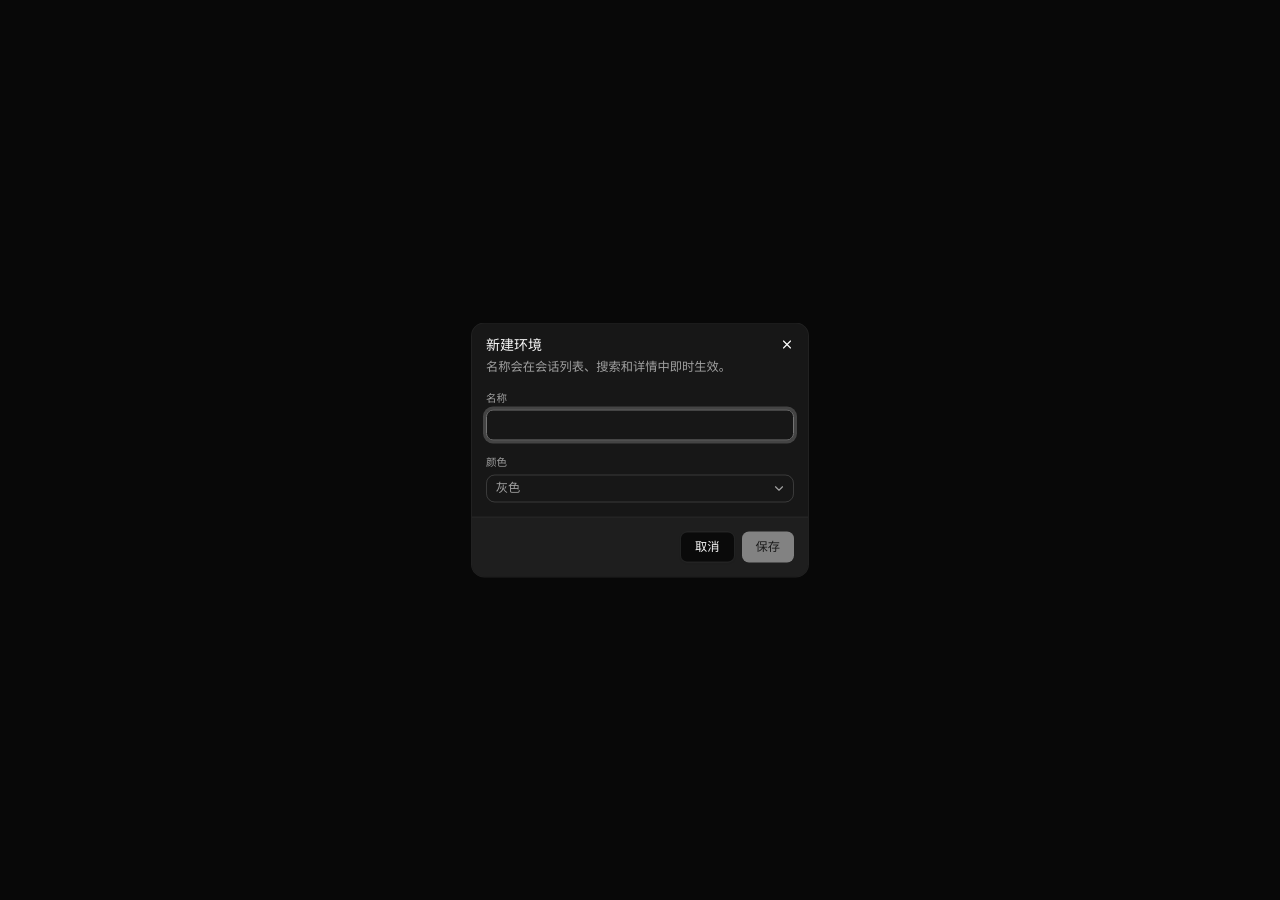
SessionAssetCatalogDialogs › shows catalog save failures inline without toast
The image size is (1280, 900).
Step 1. Type "生产" into the field → (640, 425), box [486,409,794,441]
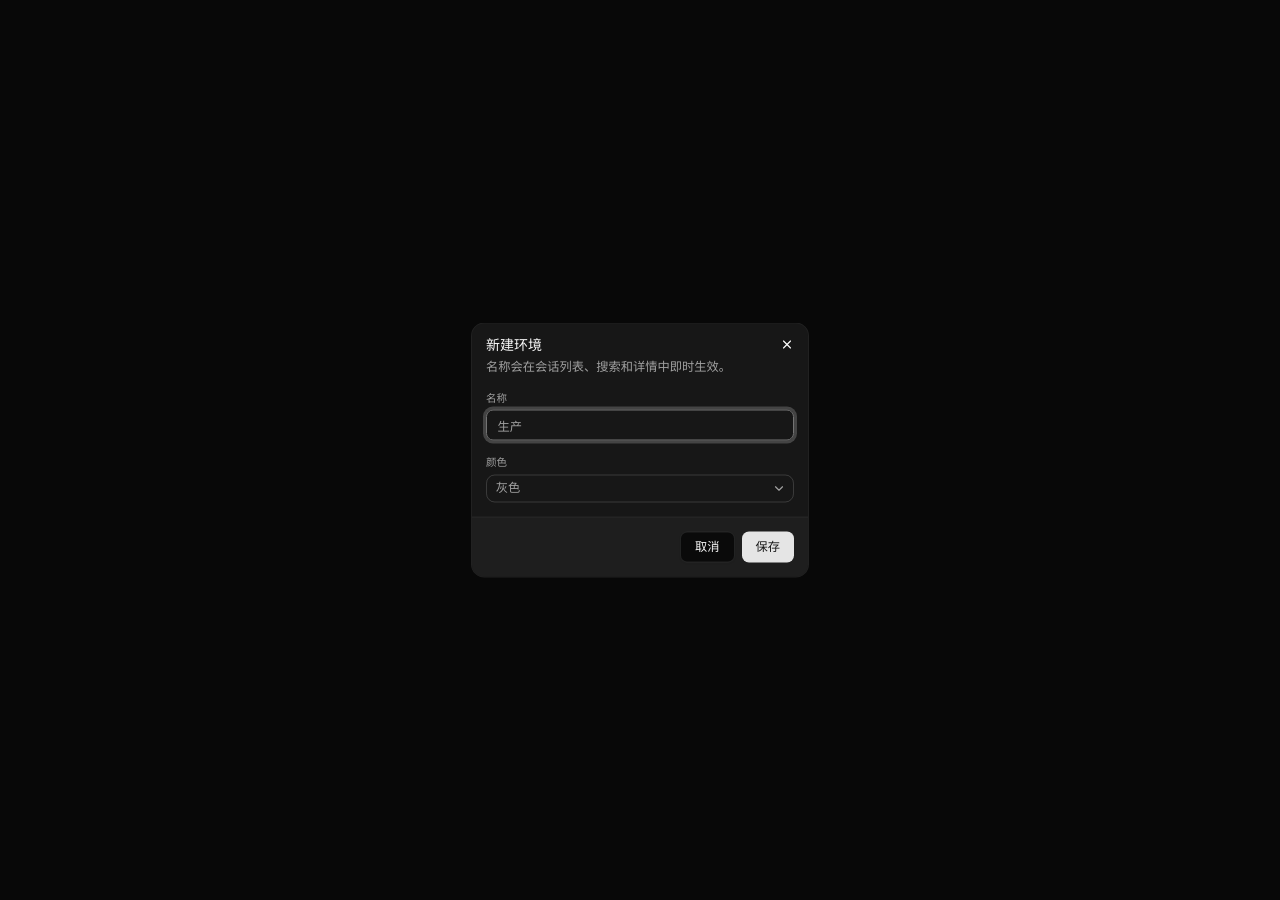
Step 2. Click the button "保存" → (768, 547), box [742,531,794,562]
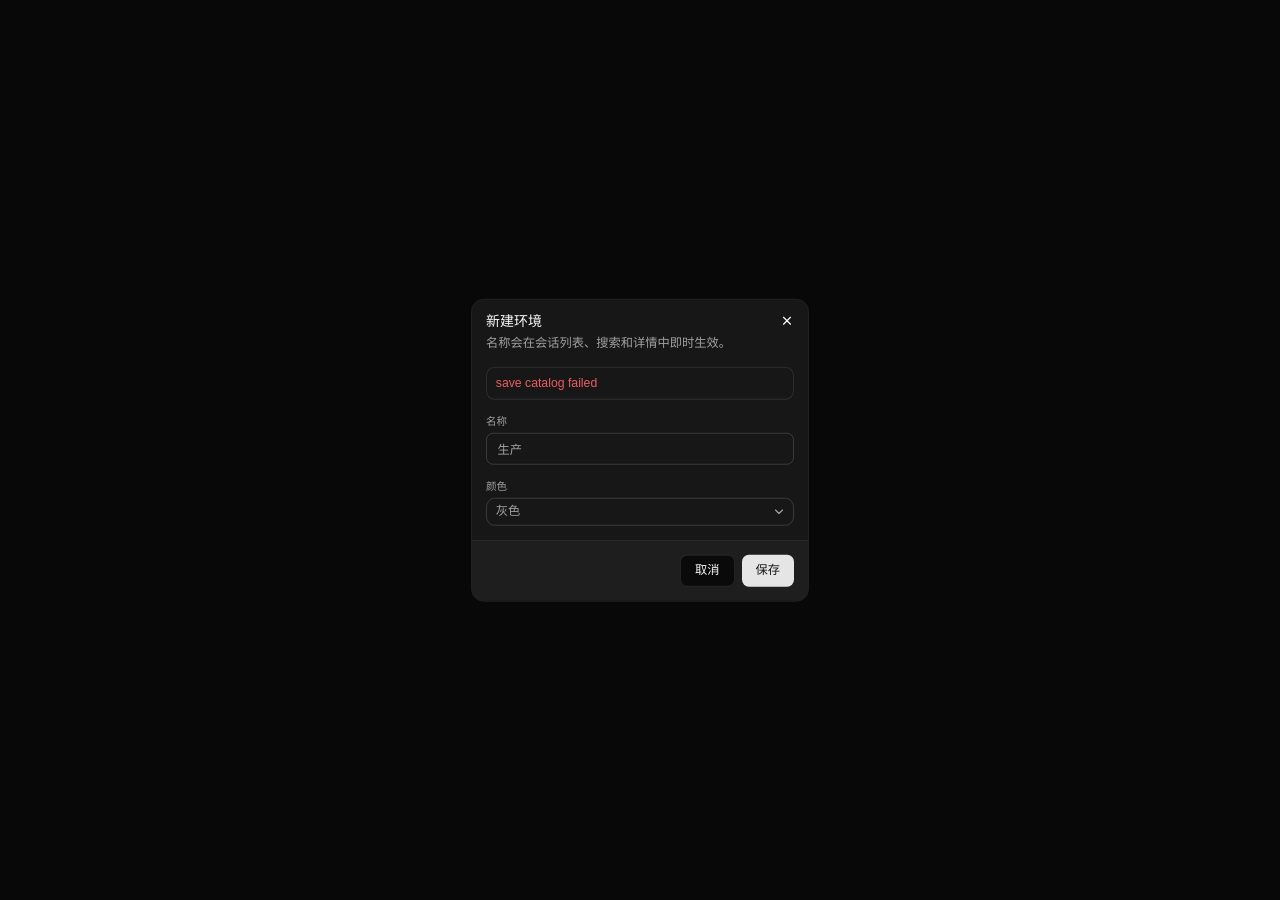
Expected: the message reads "save catalog failed", [496,375,597,389]
